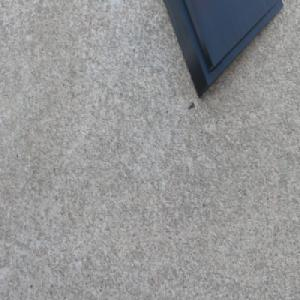PlasticPart: (162, 0, 284, 98)
